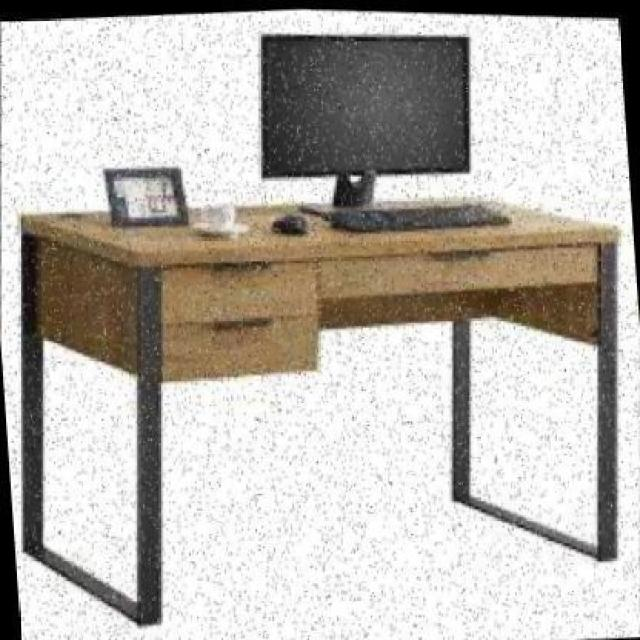tables: (19, 200, 622, 625)
